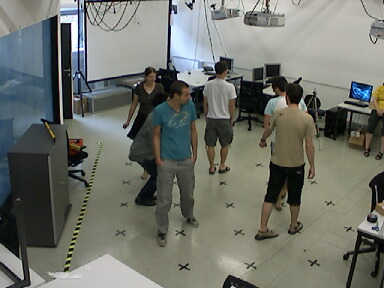person: (264, 84, 321, 240), (151, 82, 202, 241), (202, 62, 240, 179), (127, 120, 159, 205), (363, 76, 384, 163), (127, 66, 165, 101), (265, 72, 288, 112)
